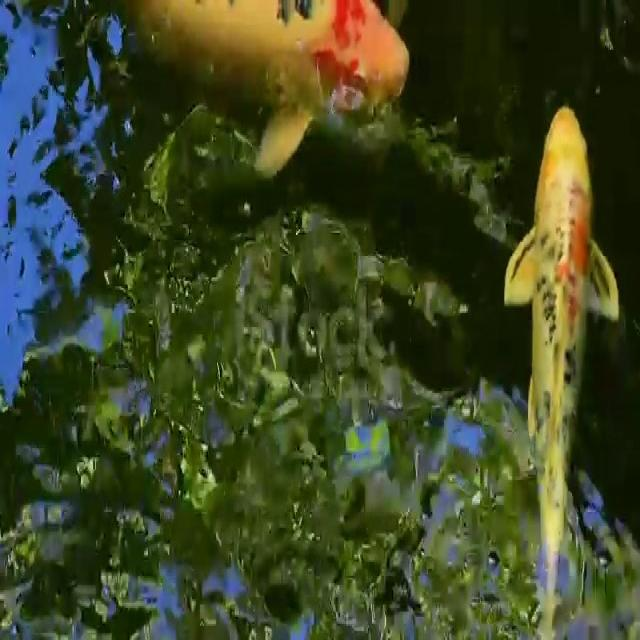fish: (508, 71, 627, 640), (142, 0, 424, 163)
